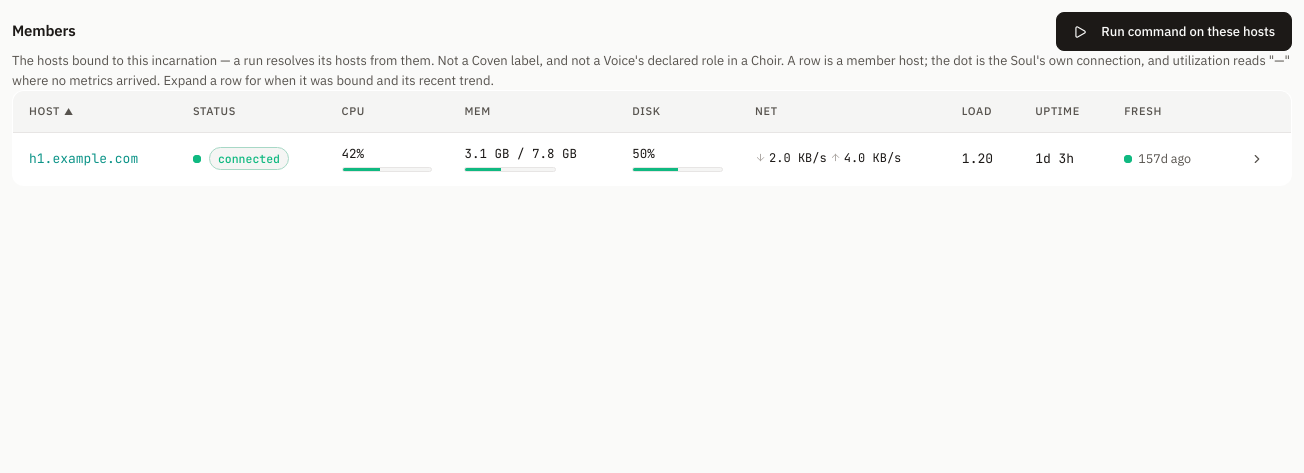
Test: MembersPanel — vitals (roster rows ⋈ telemetry) › expand host → membership facts + shared UtilTrend charts + inode line
Step 1. Click the button named "Show details for host" → (1257, 158), box [1239, 144, 1275, 172]
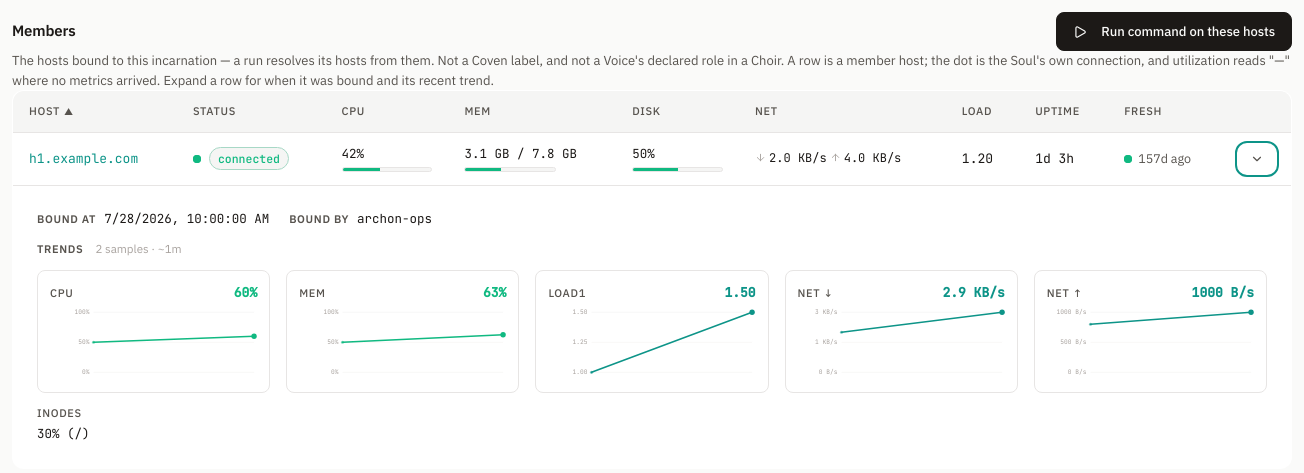
expect the element with test id "host-trends" is shown: met, box [29, 228, 1275, 456]
expect the element with test id "member-facts" shows "archon-ops": met, box [357, 210, 432, 226]
expect the element with test id "host-trend-cpu" is shown: met, box [37, 270, 270, 393]
